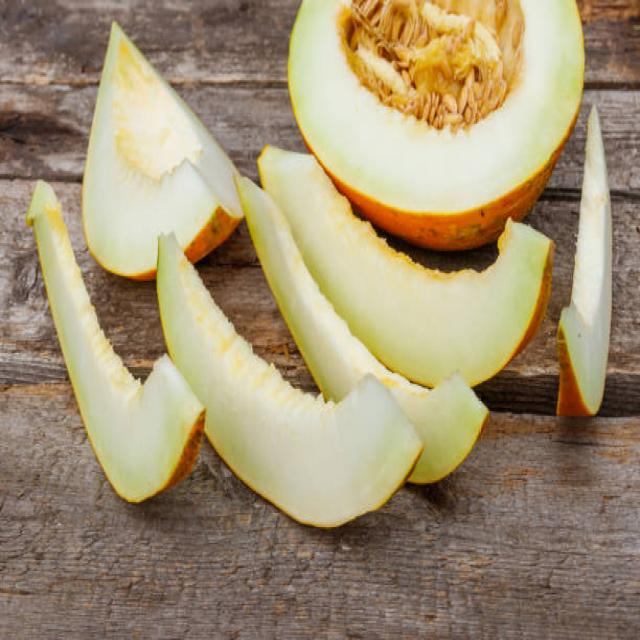Melon: (287, 0, 594, 197), (347, 208, 554, 398), (82, 11, 234, 262), (202, 361, 418, 536), (57, 318, 199, 499), (559, 144, 617, 429)
